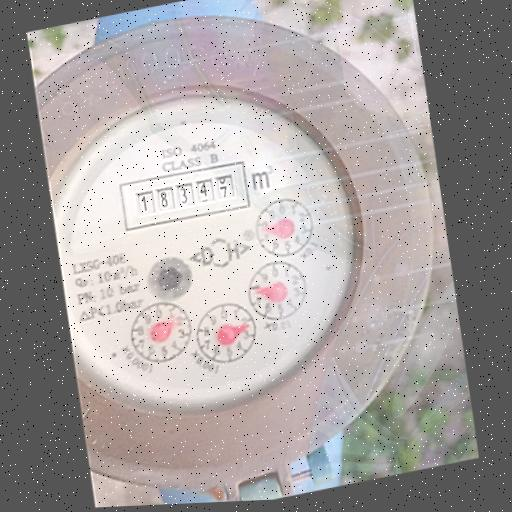1: (136, 191, 155, 217)
3: (177, 182, 195, 207)
4: (197, 178, 214, 202)
6: (217, 174, 234, 198)
8: (157, 186, 175, 211)
border_water_meter_number: (117, 158, 251, 232)
